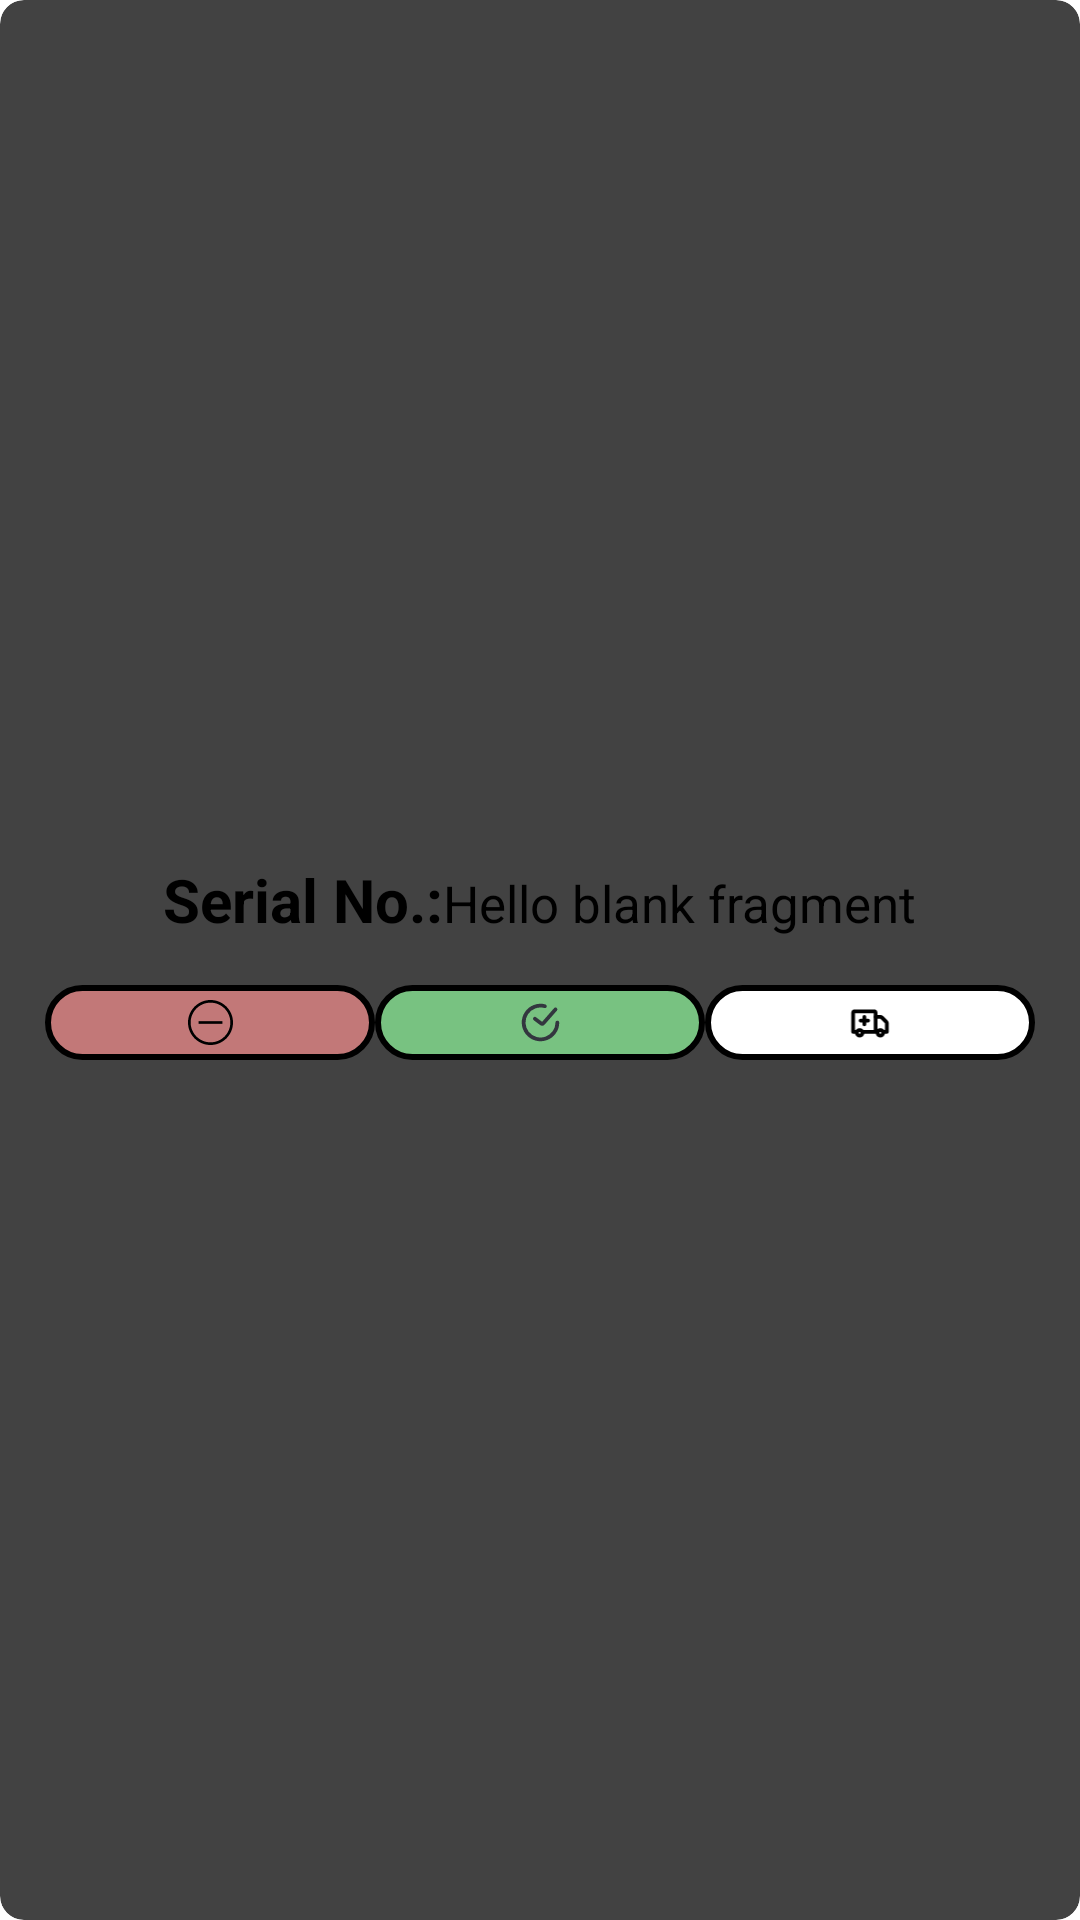

Icon bounding boxes for this 1080px×1920px phone screenshot, format [x1=x1, y1=y1, x2=x2, y2=y2]:
not sampled: [x1=45, y1=985, x2=375, y2=1060]
sampled: [x1=375, y1=985, x2=705, y2=1060]
